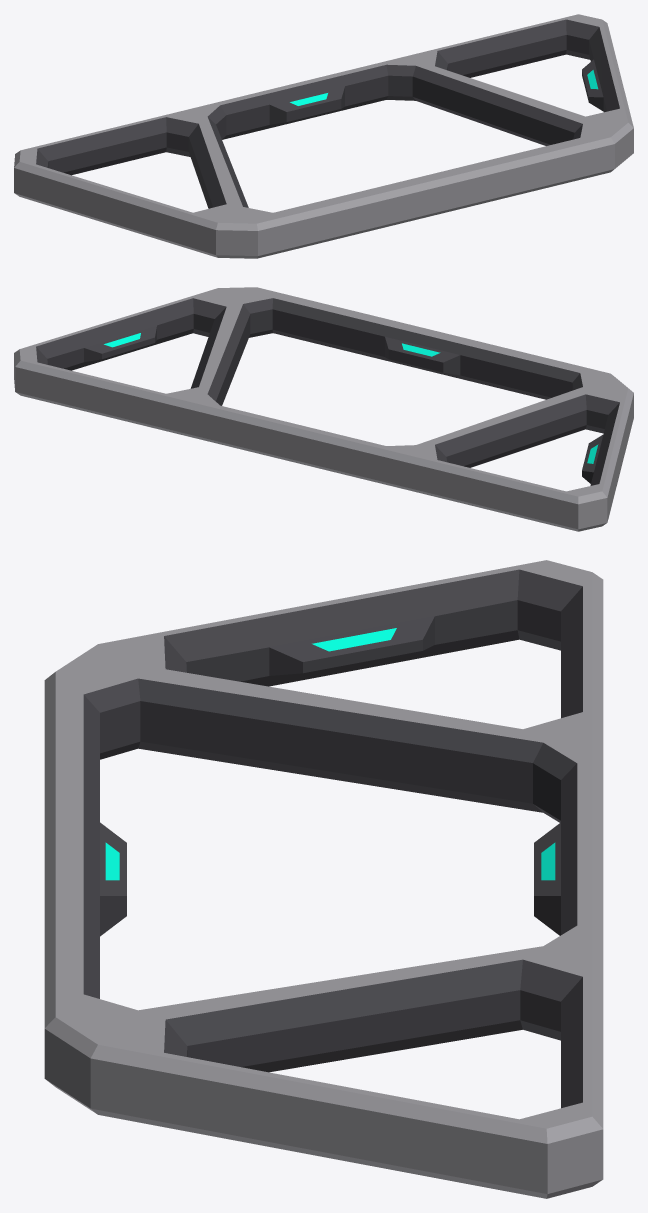
The model's file is worlds_SM_Bld_Window_12.gltf.
3 renders of one model, top to bottom at view 1: azimuth 30°, elevation 25°; view 2: azimuth 150°, elevation 25°; view 3: azimuth 270°, elevation 25°, orthographic. The views are drawn at different scales.
Visible parts, largest first — view 1: SM_Bld_Window_12; view 2: SM_Bld_Window_12; view 3: SM_Bld_Window_12.
Boxes of the visible parts, x1,y1,x2,y2 form: SM_Bld_Window_12: [14, 14, 633, 258]; SM_Bld_Window_12: [14, 287, 633, 531]; SM_Bld_Window_12: [44, 560, 603, 1198].
Size of the model in its own units: 1.8 by 0.1017 by 0.7339.
2 materials, 2 textured.
